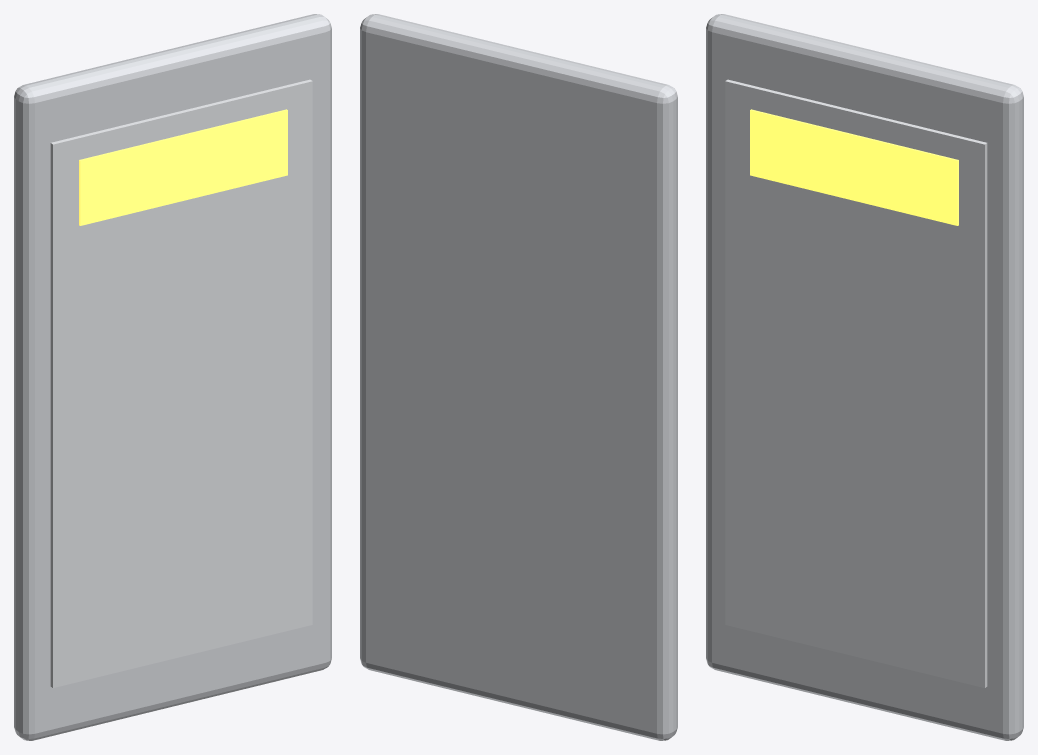
The model's file is mirror_smart_panel.glb.
3 views of the same model, side by side, from view 1: azimuth 30°, elevation 25°; view 2: azimuth 150°, elevation 25°; view 3: azimuth 330°, elevation 25° (orthographic).
Parts seen in each view (by area): view 1: GD_mirror_smart_panel__m1, GD_mirror_smart_panel__m0, GD_mirror_smart_panel__m2; view 2: GD_mirror_smart_panel__m0; view 3: GD_mirror_smart_panel__m1, GD_mirror_smart_panel__m0, GD_mirror_smart_panel__m2.
Boxes of the visible parts, x1=… form: GD_mirror_smart_panel__m1: x1=50, y1=79, x2=312, y2=687; GD_mirror_smart_panel__m0: x1=14, y1=14, x2=331, y2=740; GD_mirror_smart_panel__m2: x1=79, y1=109, x2=287, y2=225; GD_mirror_smart_panel__m0: x1=360, y1=14, x2=677, y2=740; GD_mirror_smart_panel__m1: x1=725, y1=79, x2=987, y2=687; GD_mirror_smart_panel__m0: x1=706, y1=14, x2=1023, y2=740; GD_mirror_smart_panel__m2: x1=750, y1=109, x2=958, y2=225.
Size of the model in its own units: 0.6 by 1.2 by 0.062.
